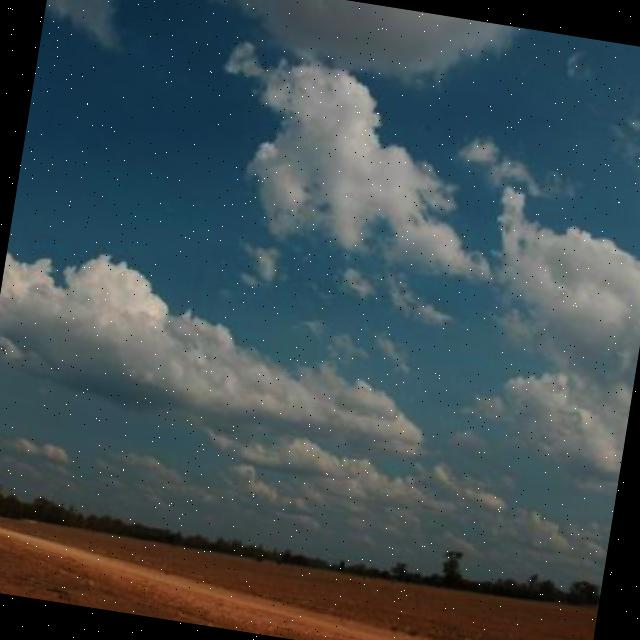Cu: (1, 24, 640, 510)
